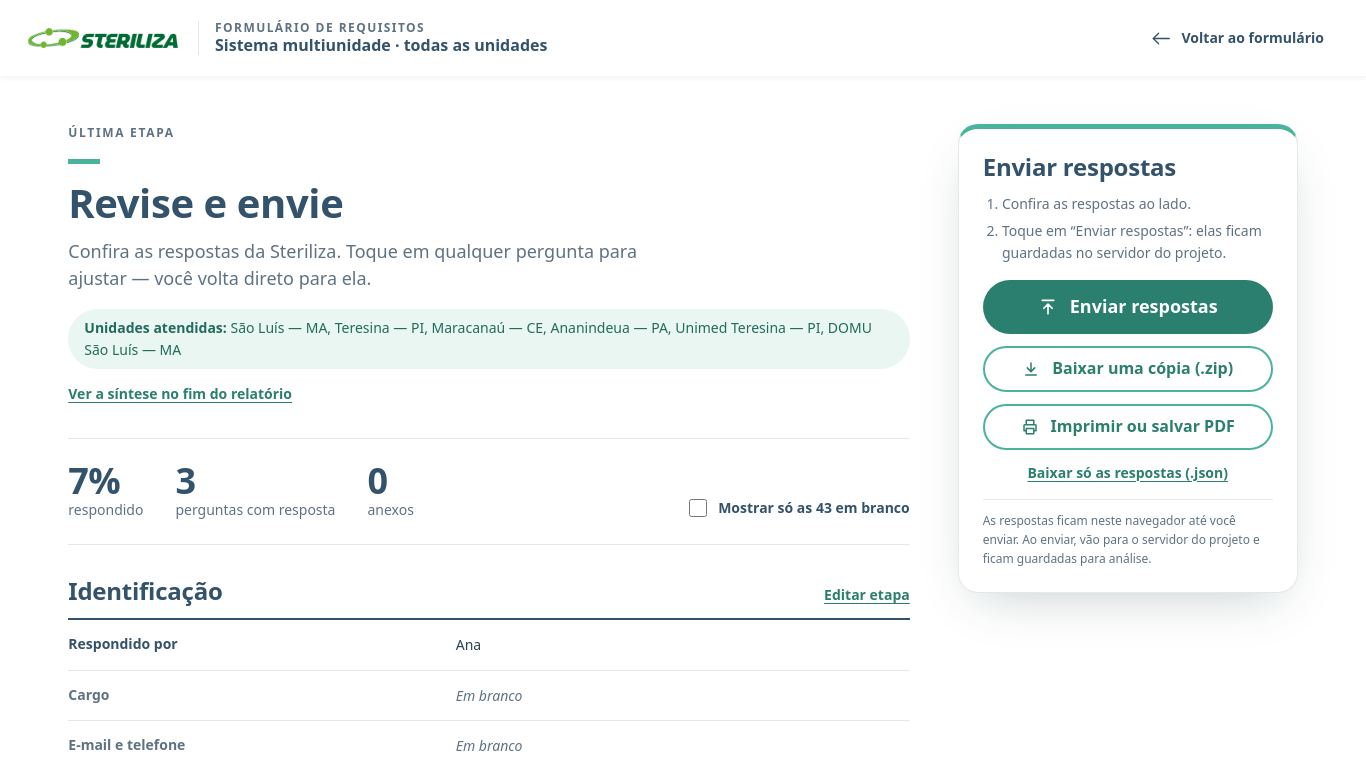
Test: fluxo completo › mostra a mensagem do servidor quando o envio é recusado
Click the button "Enviar respostas". click: (1128, 307)
box: [983,280,1273,334]
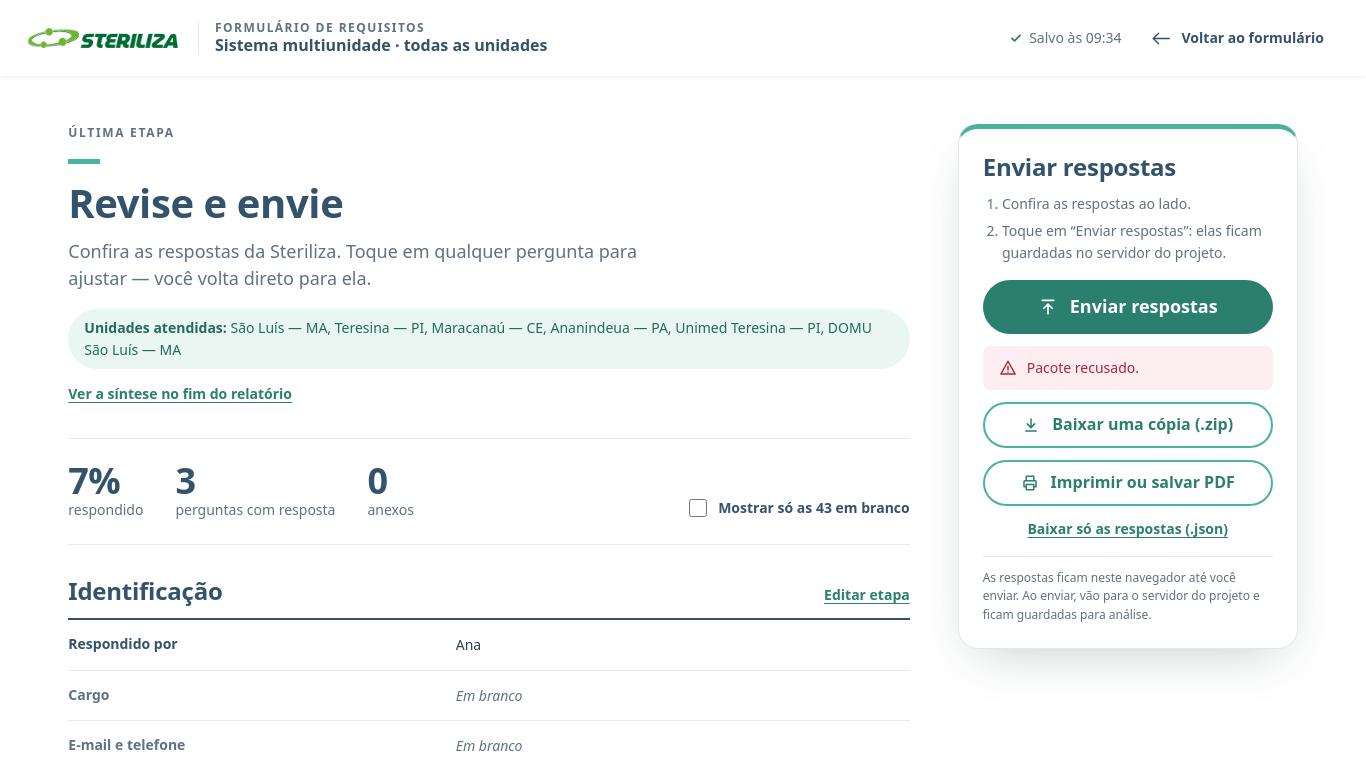
Now the message reads "Pacote recusado.", box [1027,358,1139,377]
